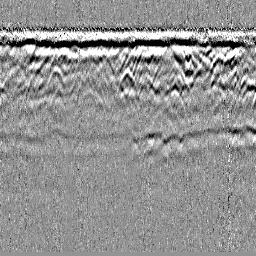cavity: (115, 65, 138, 99)
